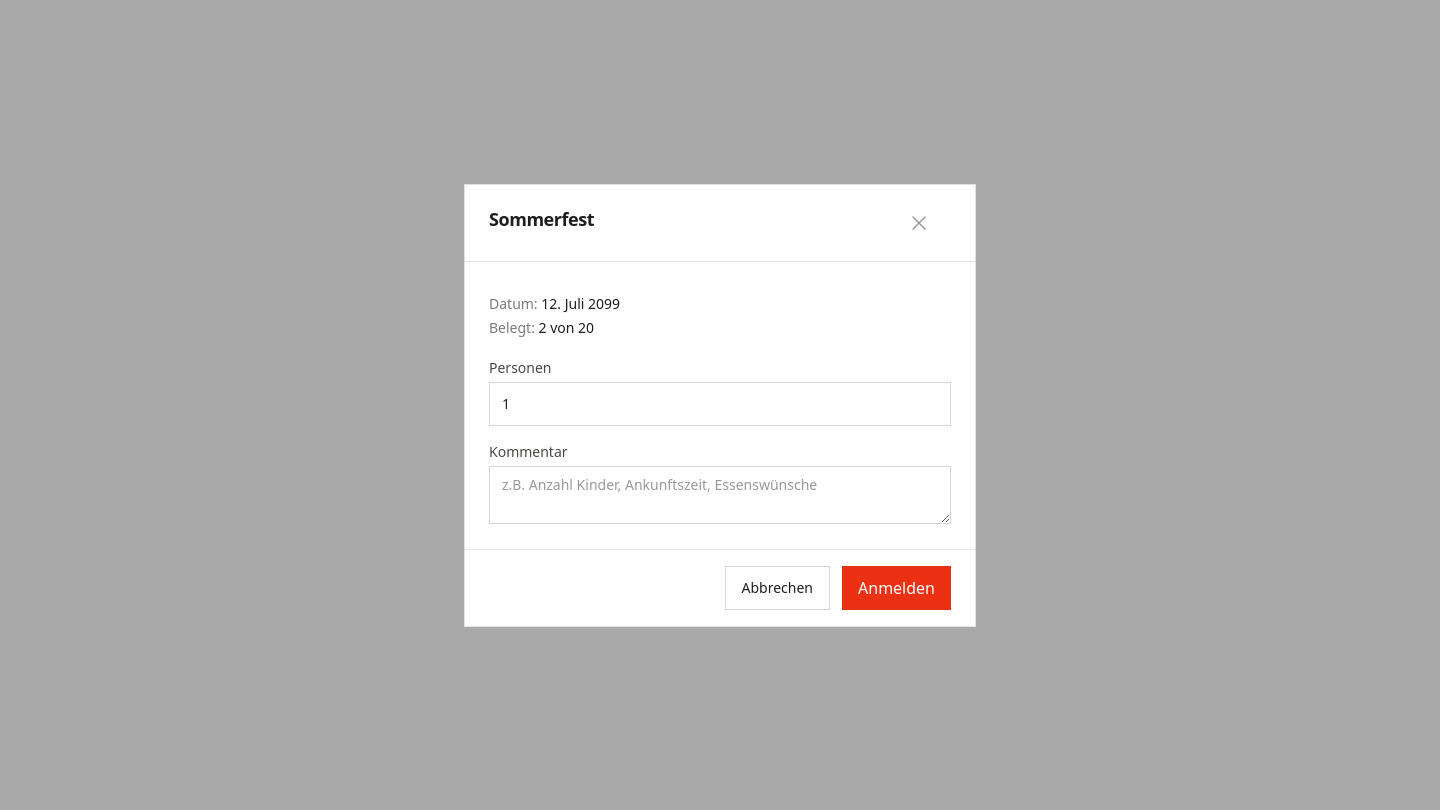
Test: EventSignupModal › hides disabled contribution fields and rejects fewer than one person with an inline error
Replace the text in the number field labelled "Personen" with "0". click: [720, 404]
box: left=489, top=382, right=951, bottom=426
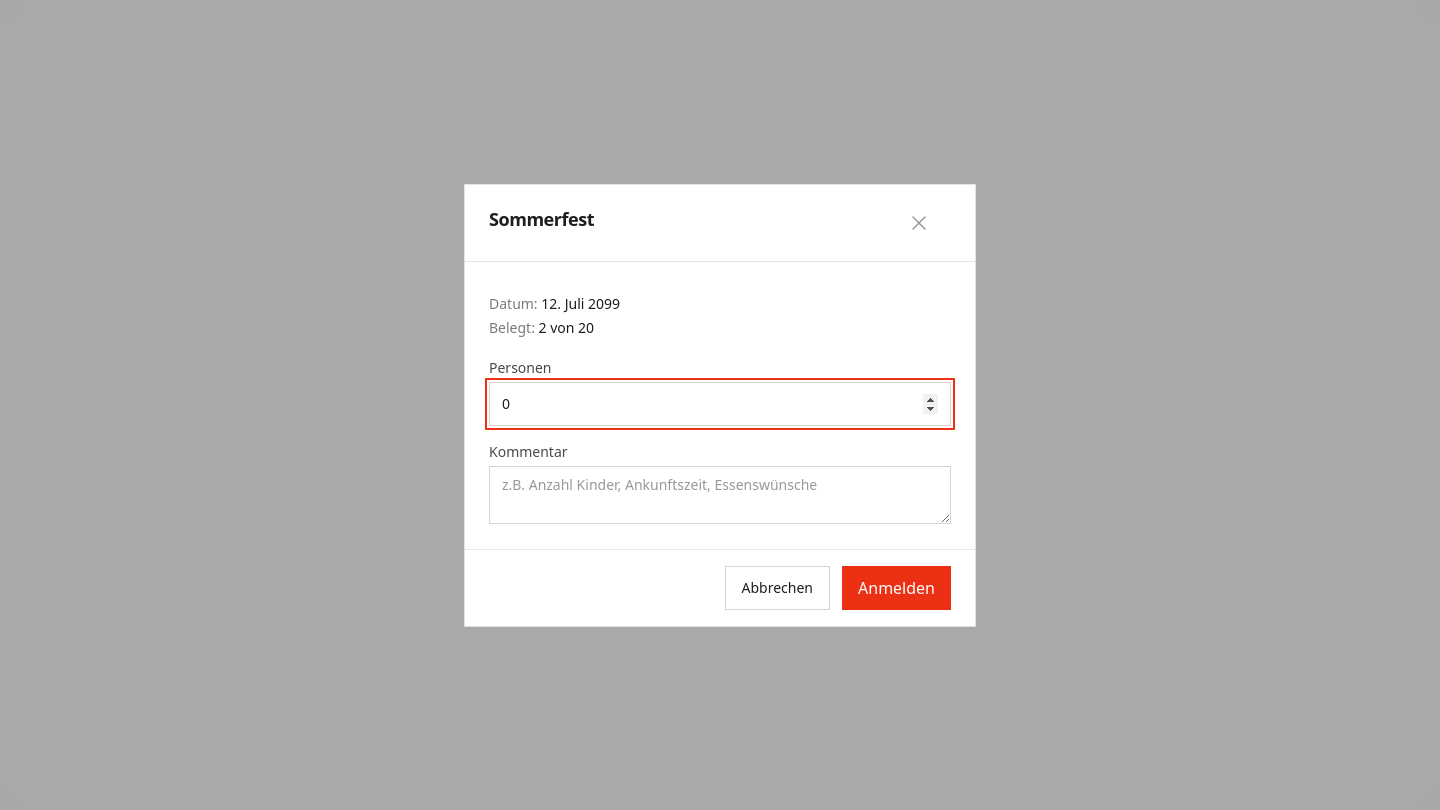
Click the button "Anmelden". click: [896, 588]
box: left=842, top=566, right=951, bottom=610
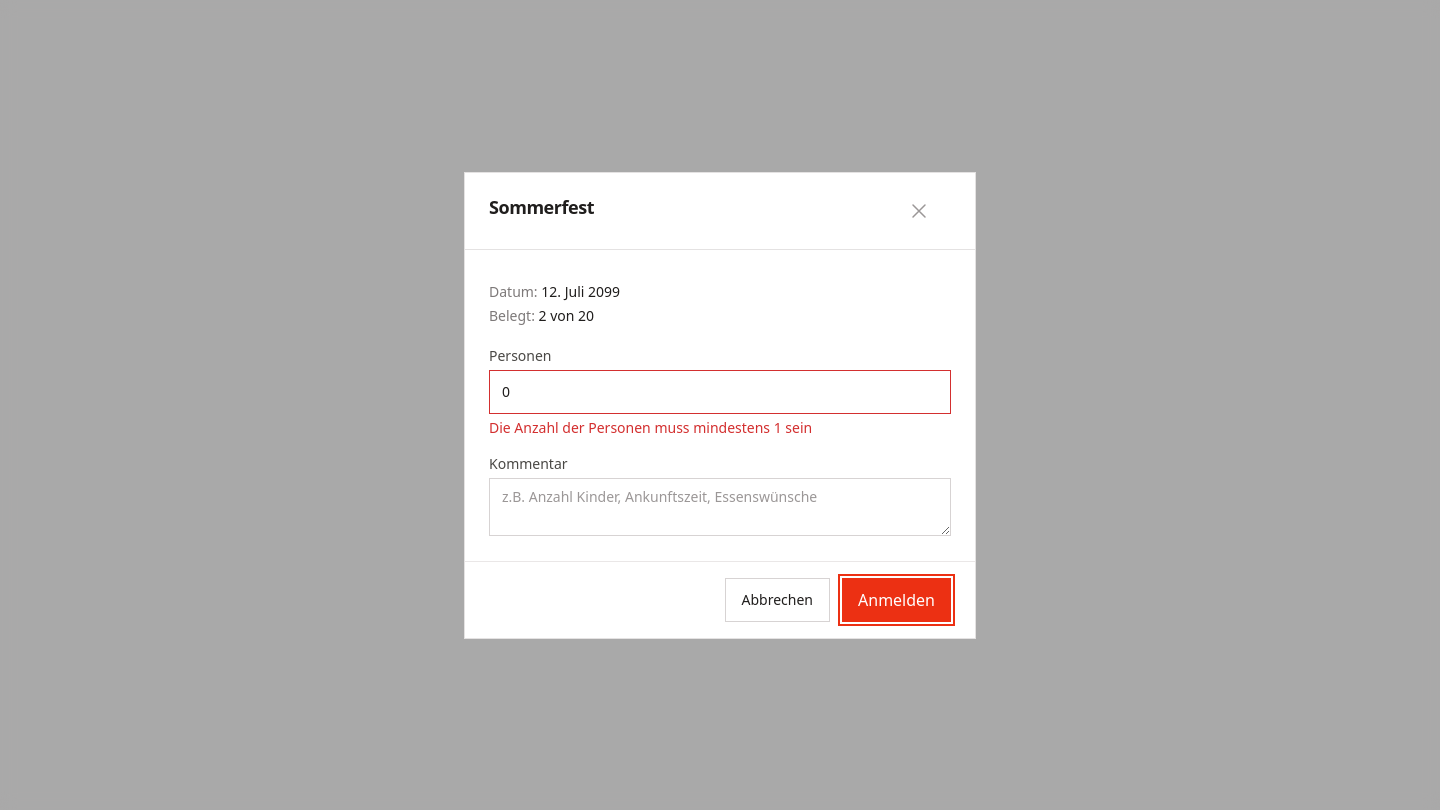
Check: the text "Die Anzahl der Personen muss mindestens 1 sein" is shown, box left=489, top=418, right=812, bottom=436
